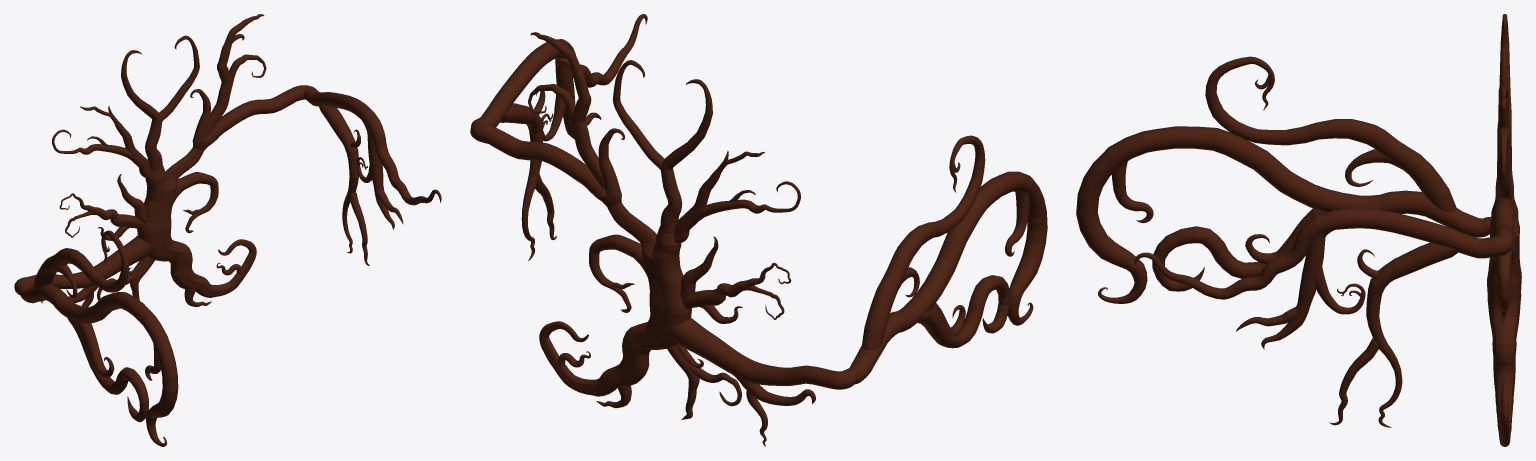
Rendered from family_tree_final_v1.fbx.
The picture shows the model from 3 angles, left to right: view 1: azimuth 30°, elevation 25°; view 2: azimuth 150°, elevation 25°; view 3: azimuth 270°, elevation 25°; orthographic projection. The views are drawn at different scales.
Visible parts, largest first — view 1: Circle.001; view 2: Circle.001; view 3: Circle.001.
Boxes of the visible parts, box(x1,y1,x2,y2) form: Circle.001: box(14, 14, 441, 446); Circle.001: box(470, 14, 1047, 446); Circle.001: box(1076, 14, 1521, 446).
Size of the model in its own units: 935 by 827 by 867.
